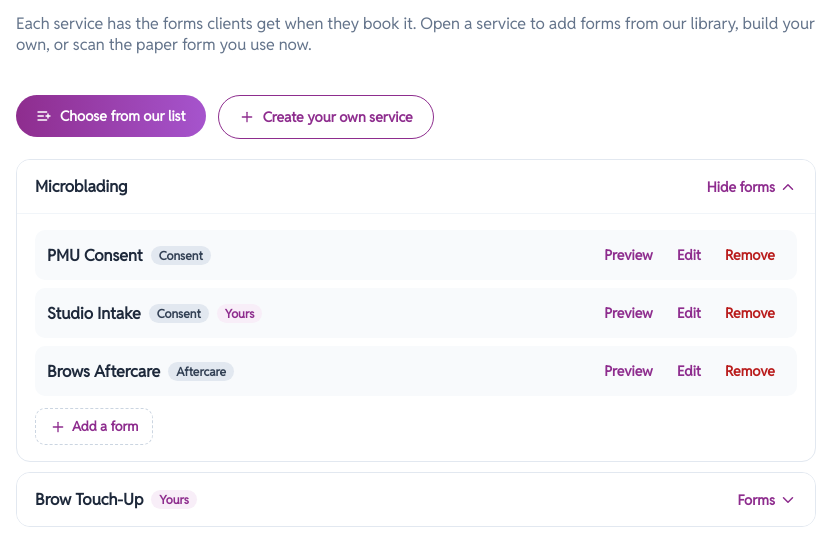
ServicesPage › removes a form from a service after asking
Later steps or results of the test are not shown.
Click the button with aria-label "Remove PMU Consent".
click(750, 255)  # box [715,240,785,270]
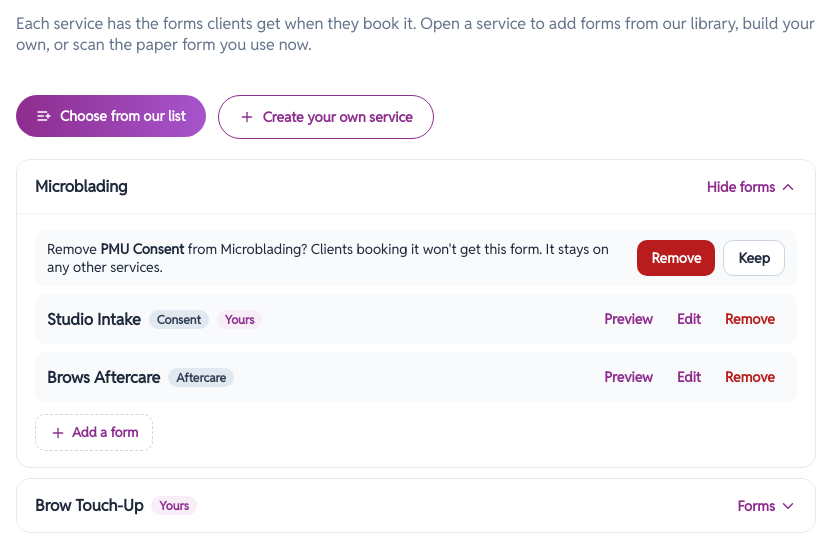
expect the list named "Forms for Microblading" shows "Clients booking it won't get this form": met, box [47,240,609,276]
